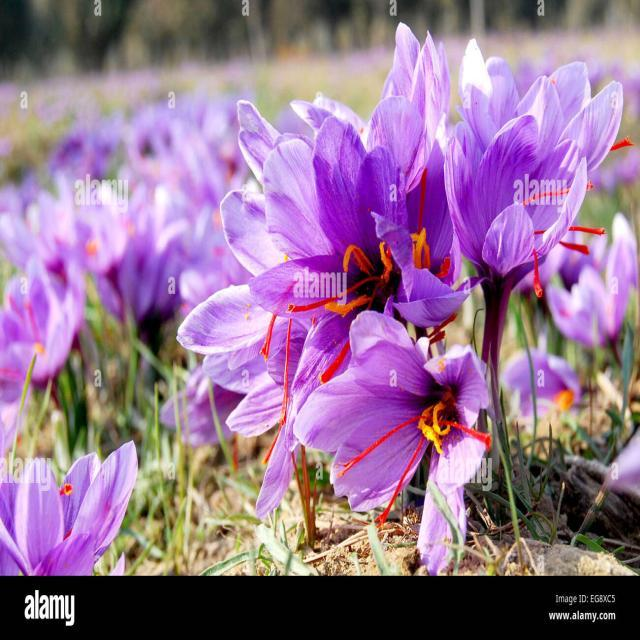Flower: (294, 332, 507, 536), (264, 166, 470, 346), (433, 109, 601, 308), (280, 66, 447, 248), (97, 189, 266, 334), (0, 442, 138, 580), (539, 226, 640, 364)
stigma: (372, 438, 431, 524), (342, 420, 415, 472), (408, 168, 440, 270), (278, 293, 400, 318), (514, 232, 548, 304), (279, 308, 297, 436), (440, 412, 495, 442), (532, 214, 604, 234), (258, 300, 275, 362)
